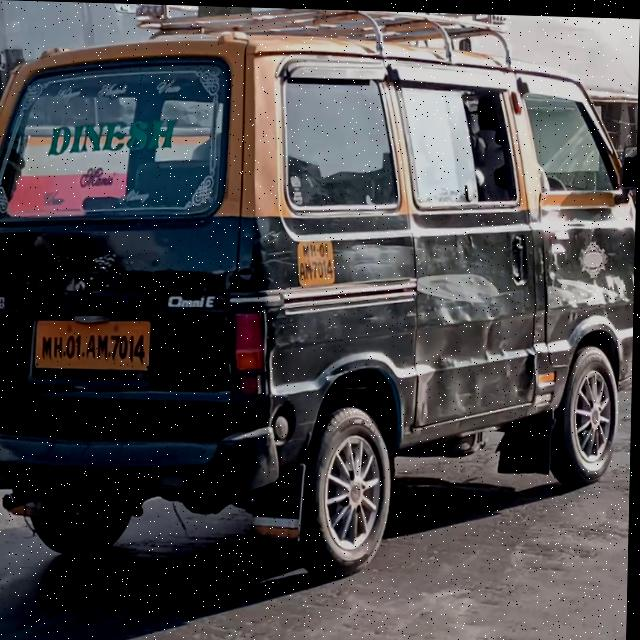plate: (32, 314, 153, 372), (294, 234, 341, 287)
